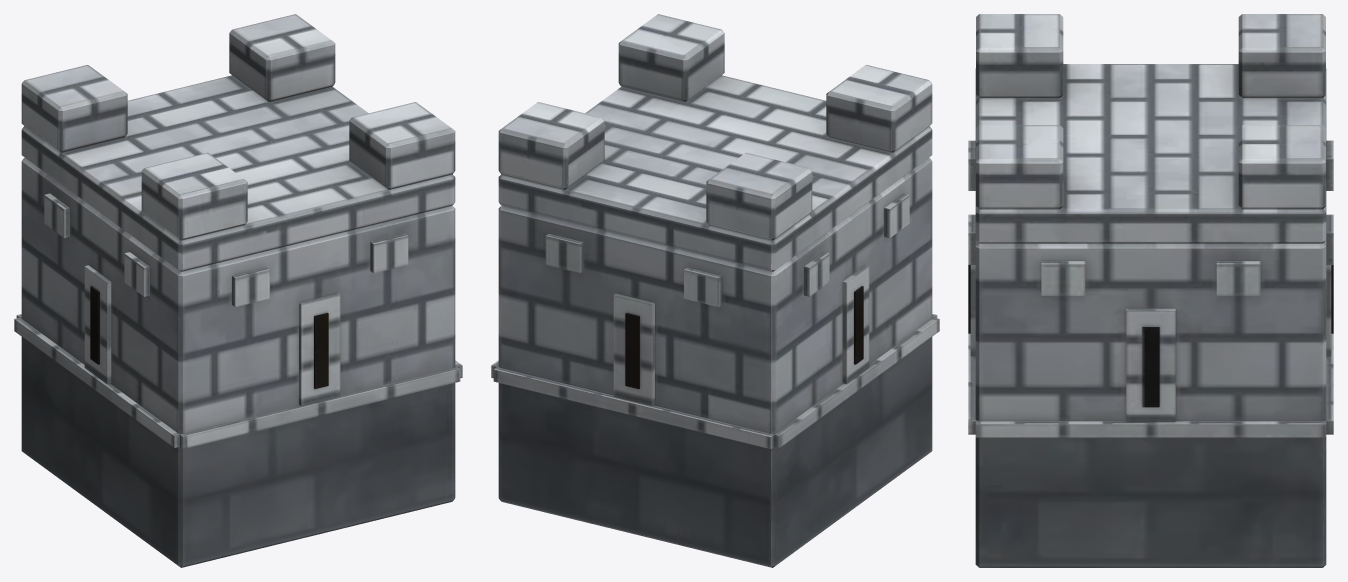
File: wall_human.glb
3 views of the same model, side by side, from view 1: azimuth 30°, elevation 25°; view 2: azimuth 150°, elevation 25°; view 3: azimuth 270°, elevation 25° (orthographic). The views are drawn at different scales.
Visible parts, largest first — view 1: Static_Mesh; view 2: Static_Mesh; view 3: Static_Mesh.
Boxes of the visible parts, bbox=[...] form: Static_Mesh: bbox=[14, 14, 462, 567]; Static_Mesh: bbox=[491, 14, 939, 567]; Static_Mesh: bbox=[968, 14, 1333, 567].
Size of the model in its own units: 2.5 by 3.09 by 2.5.
1 material, 1 textured.
